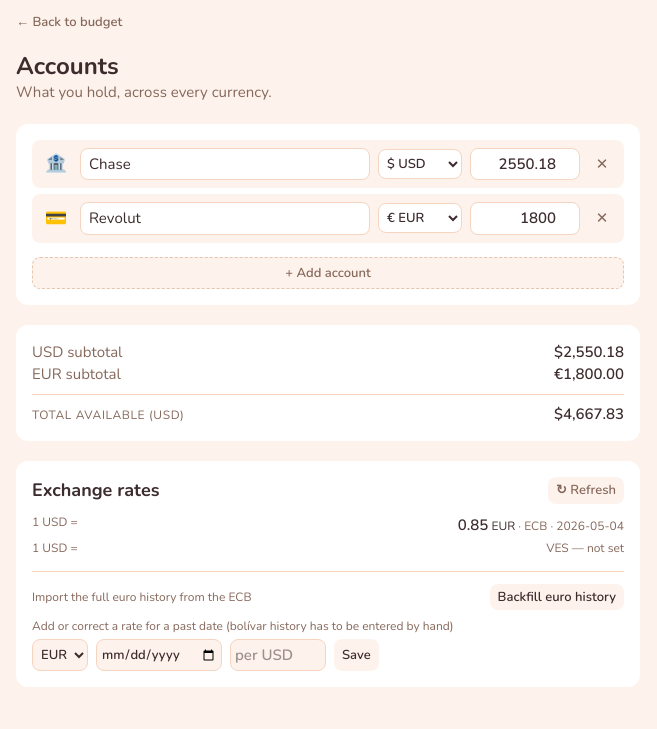
Test: Accounts page › backfills only the euro days it does not already have
Expected: the field showing "Chase" is shown, x1=80 y1=148 x2=370 y2=180
Click the button "Backfill euro history".
click(557, 597)  # box x1=490 y1=584 x2=624 y2=610
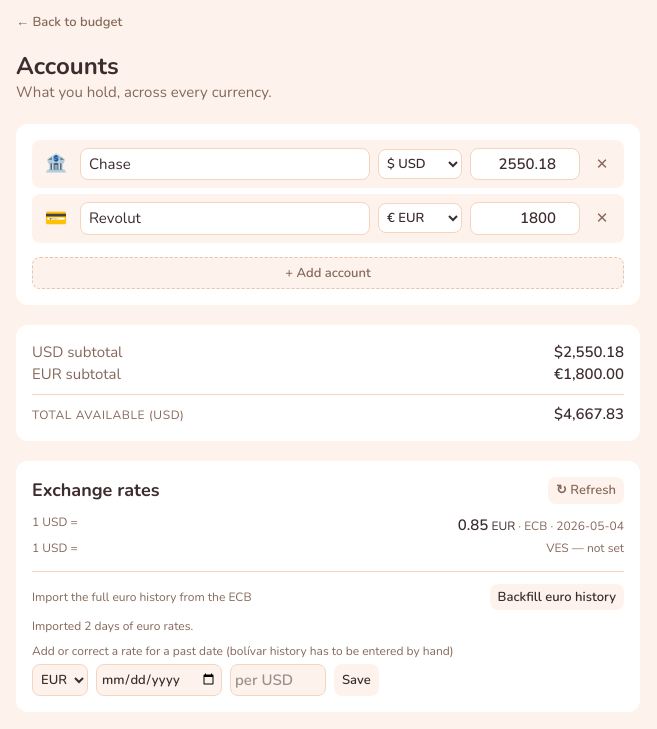
Now the text with test id "backfill-result" shows "2", box x1=32 y1=618 x2=193 y2=634
